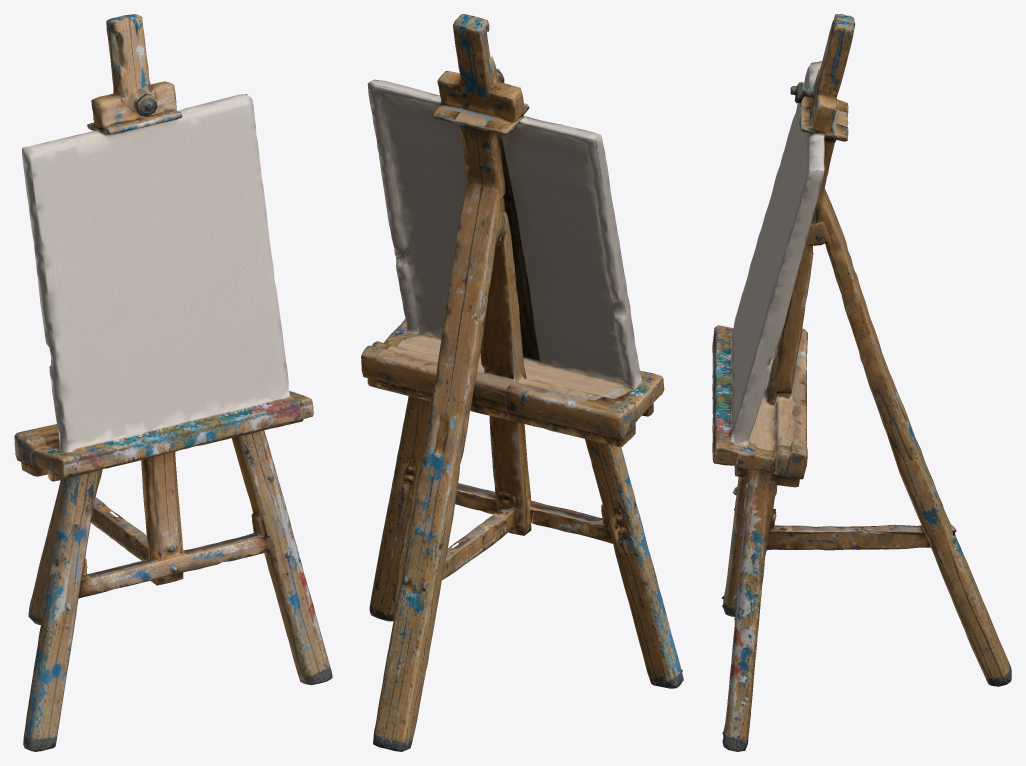
Rendered from VAR_DollRoom_Easel.fbx.
The picture shows the model from 3 angles, left to right: view 1: azimuth 30°, elevation 25°; view 2: azimuth 150°, elevation 25°; view 3: azimuth 270°, elevation 25°; orthographic projection.
Visible parts, largest first — view 1: texture_mapping; view 2: texture_mapping; view 3: texture_mapping.
Boxes of the visible parts, box(x1,y1,x2,y2) form: texture_mapping: box(14, 14, 332, 751); texture_mapping: box(361, 14, 683, 751); texture_mapping: box(712, 14, 1011, 751).
Size of the model in its own units: 0.483 by 0.4112 by 1.
1 material, 1 textured.
